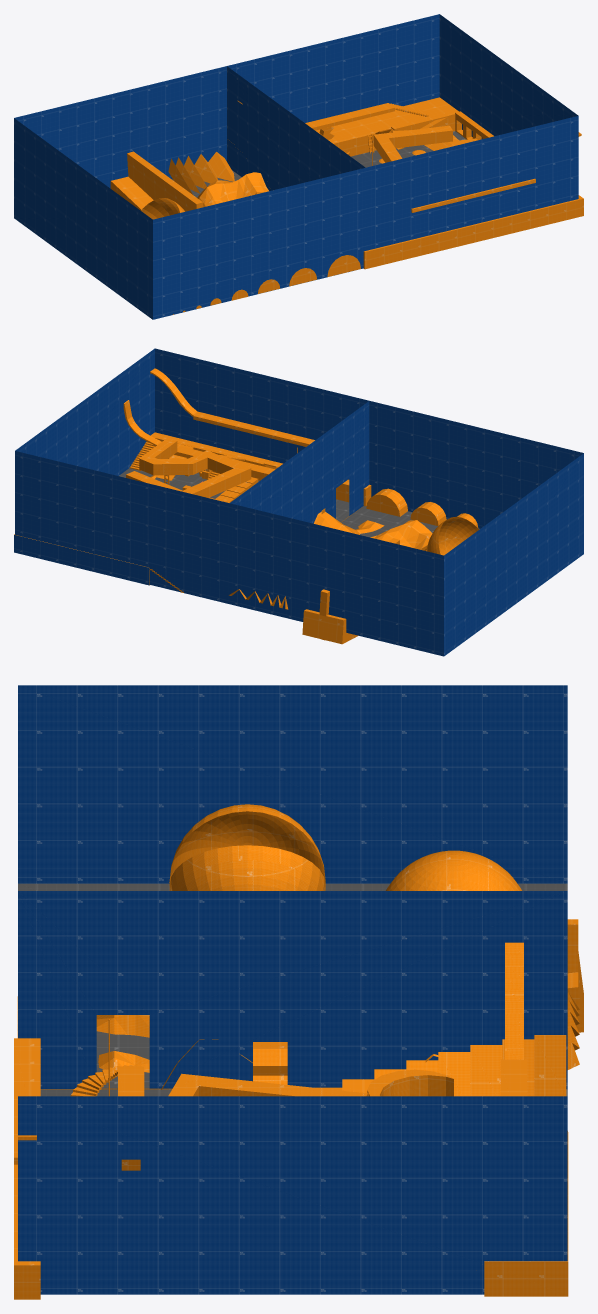
Rendered from levelTest.glb.
3 renders of one model, top to bottom at view 1: azimuth 30°, elevation 25°; view 2: azimuth 150°, elevation 25°; view 3: azimuth 270°, elevation 25°, orthographic. The views are drawn at different scales.
Visible parts, largest first — view 1: level; view 2: level; view 3: level.
Part boxes in pixels (bbox=[...]): level: bbox=[14, 14, 583, 319]; level: bbox=[14, 348, 583, 656]; level: bbox=[14, 685, 583, 1299].
Bounding box in the file's own units: 83.87 × 23.32 × 48.66.
Materials: 4 (4 with a texture image).
